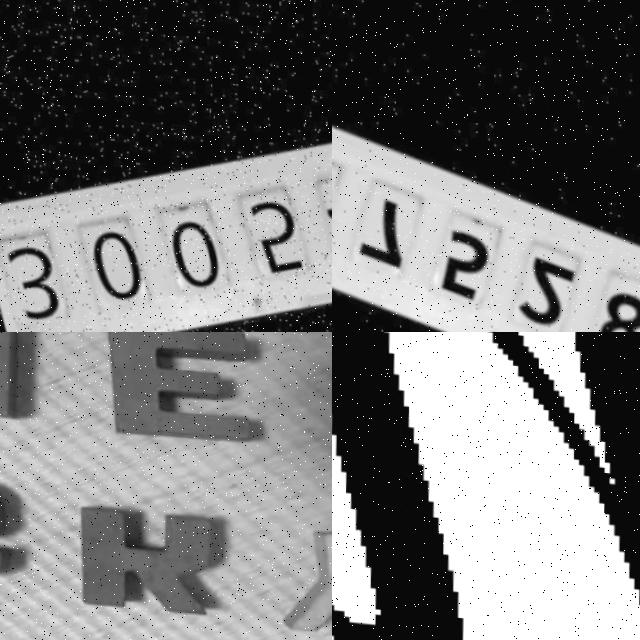0: (149, 199, 228, 306), (72, 213, 151, 317)
2: (501, 237, 579, 332)
3: (0, 232, 67, 332)
4: (307, 165, 332, 270)
5: (418, 207, 498, 316), (231, 183, 310, 284)
7: (342, 177, 423, 282)
8: (577, 264, 640, 332)
E: (109, 332, 262, 437)
K: (81, 495, 217, 609)
U: (332, 332, 640, 640)
Y: (276, 517, 332, 632)
